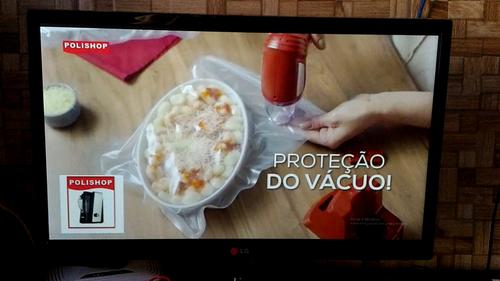Polishop #1: (60, 175, 124, 233)
